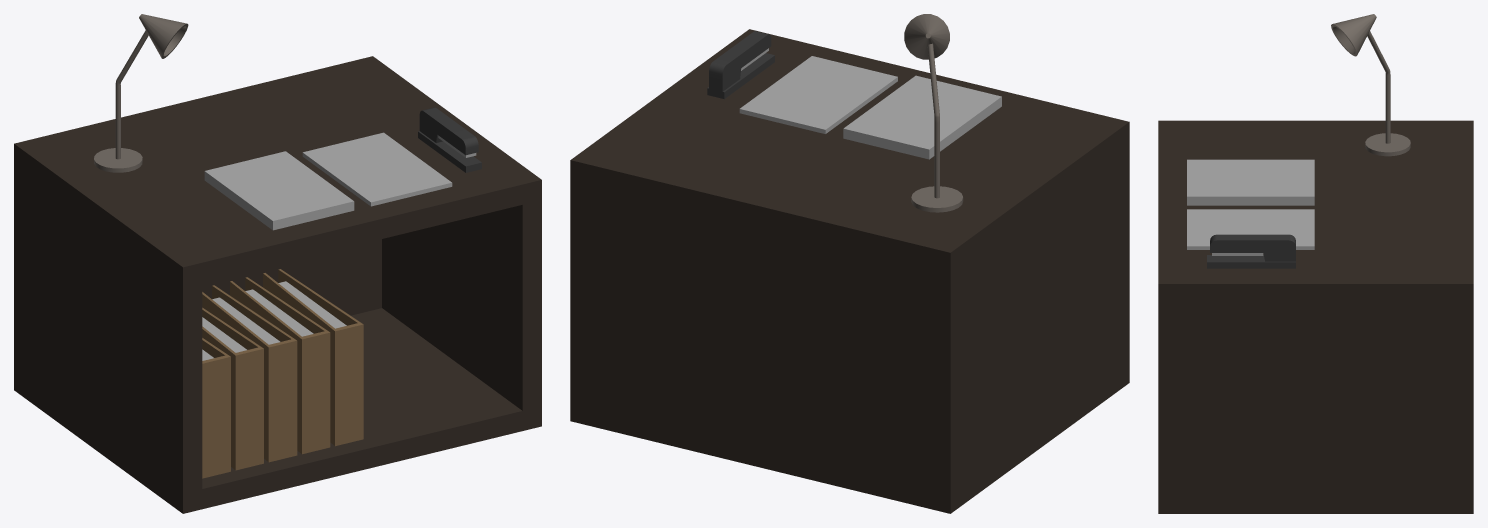
The model's file is OrganizedFilingShelf.fbx.
3 renders of one model, left to right at view 1: azimuth 30°, elevation 25°; view 2: azimuth 150°, elevation 25°; view 3: azimuth 270°, elevation 25°, orthographic. The views are drawn at different scales.
Parts seen in each view (by area): view 1: OrganizedFilingShelf1; view 2: OrganizedFilingShelf1; view 3: OrganizedFilingShelf1.
Boxes of the visible parts, x1=… form: OrganizedFilingShelf1: x1=14, y1=14, x2=541, y2=513; OrganizedFilingShelf1: x1=570, y1=14, x2=1129, y2=513; OrganizedFilingShelf1: x1=1158, y1=14, x2=1473, y2=513.
Bounding box in the file's own units: 0.5659 × 0.5981 × 0.4616.
